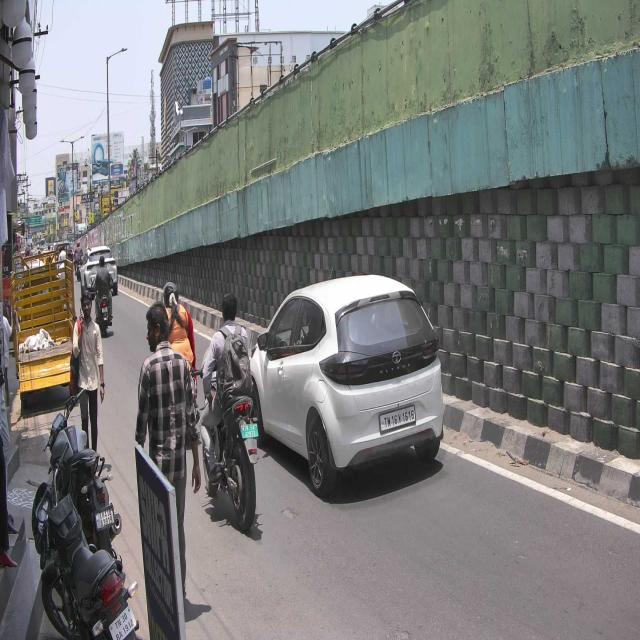single_rider: (192, 287, 259, 533)
